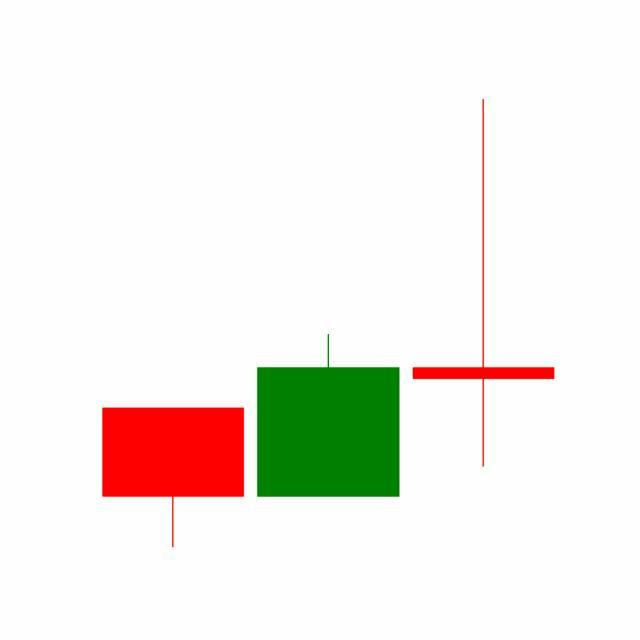Spinning Top: (406, 96, 562, 472)
